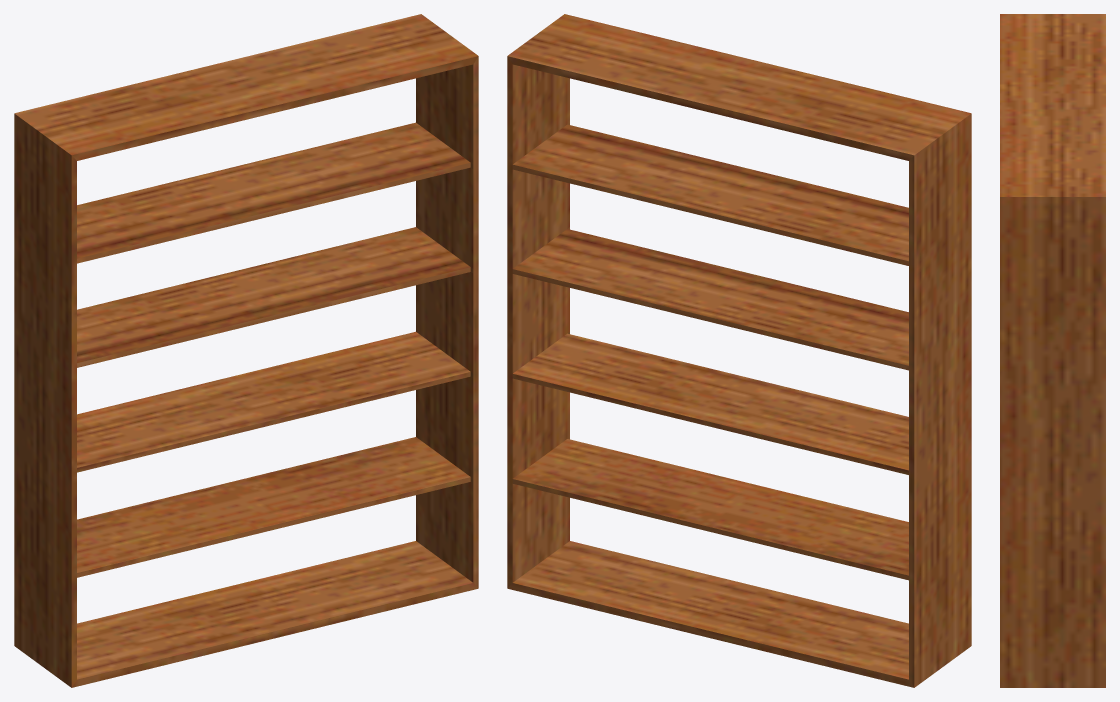
Rendered from book_case.obj.
The picture shows the model from 3 angles, left to right: view 1: azimuth 30°, elevation 25°; view 2: azimuth 150°, elevation 25°; view 3: azimuth 270°, elevation 25°; orthographic projection. The views are drawn at different scales.
Parts seen in each view (by area): view 1: book_case; view 2: book_case; view 3: book_case.
Boxes of the visible parts, x1,y1,x2,y2 form: book_case: [14, 14, 478, 687]; book_case: [507, 14, 971, 687]; book_case: [1000, 14, 1105, 687].
Bounding box in the file's own units: 2 × 2.5 × 0.4888.
